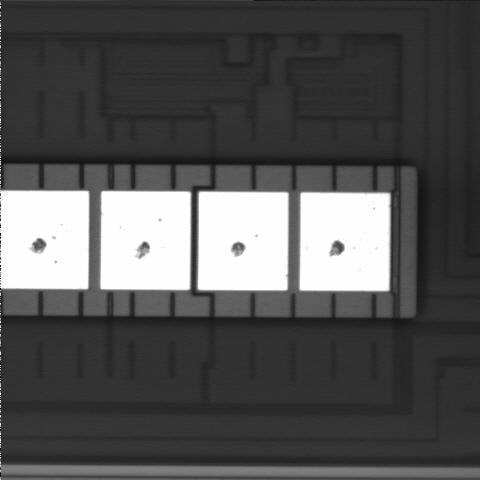pad: (100, 191, 191, 290), (198, 192, 288, 290), (300, 193, 390, 291)
